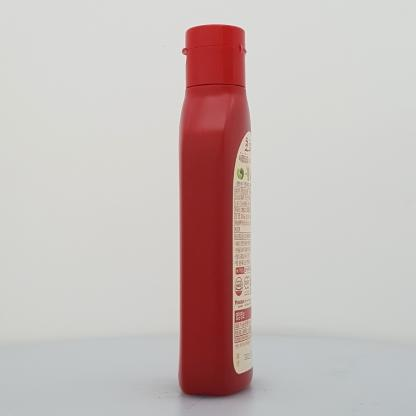---------: (178, 24, 253, 396)
